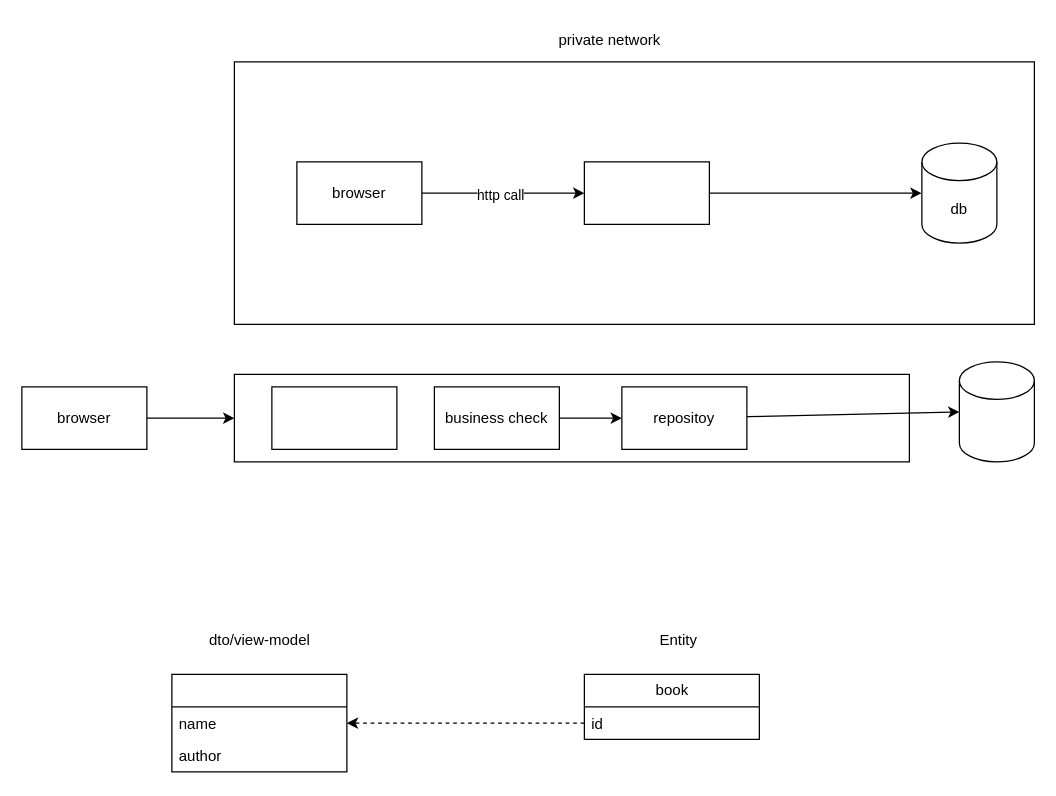
This 1056x796 diagram has some shape labels left out. The shapes that lost their labels are listed below. From the top down, each one's box as (x1, y1, x2, y2) in pixels, then its label:
(583, 161, 709, 224): library api
(271, 386, 397, 449): req param validation
(171, 673, 347, 772): book-base
